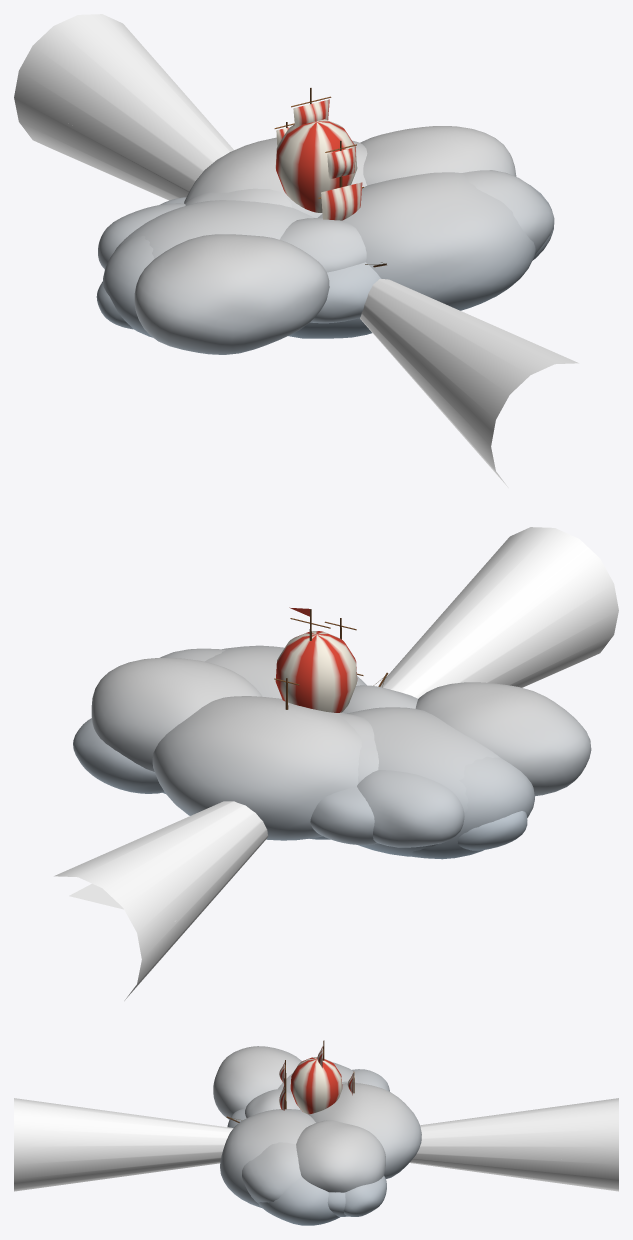
Rendered from chuyen_dong.glb.
3 views of the same model, one above another, from view 1: azimuth 30°, elevation 25°; view 2: azimuth 150°, elevation 25°; view 3: azimuth 270°, elevation 25° (orthographic). The views are drawn at different scales.
Parts seen in each view (by area): view 1: tia_den, may_0, may_2, may_1, khi_cau_do, tau_buom; view 2: tia_den, may_0, may_1, may_2, khi_cau_do; view 3: tia_den, may_2, may_1, may_0, khi_cau_do, tau_buom.
Boxes of the visible parts, box(x1,y1,x2,y2) form: tia_den: box(14, 14, 578, 487); may_0: box(96, 200, 380, 354); may_2: box(98, 126, 554, 338); may_1: box(184, 137, 367, 217); khi_cau_do: box(275, 119, 357, 212); tau_buom: box(274, 88, 386, 267); tia_den: box(54, 527, 618, 1000); may_0: box(309, 682, 591, 859); may_1: box(73, 696, 378, 840); may_2: box(91, 645, 464, 847); khi_cau_do: box(275, 631, 357, 712); tia_den: box(14, 1098, 618, 1191); may_2: box(220, 1069, 389, 1225); may_1: box(308, 1081, 421, 1216); may_0: box(213, 1046, 359, 1127); khi_cau_do: box(290, 1057, 342, 1114); tau_buom: box(226, 1040, 354, 1122).
Bounding box in the file's own units: 44.79 × 22.5 × 84.
